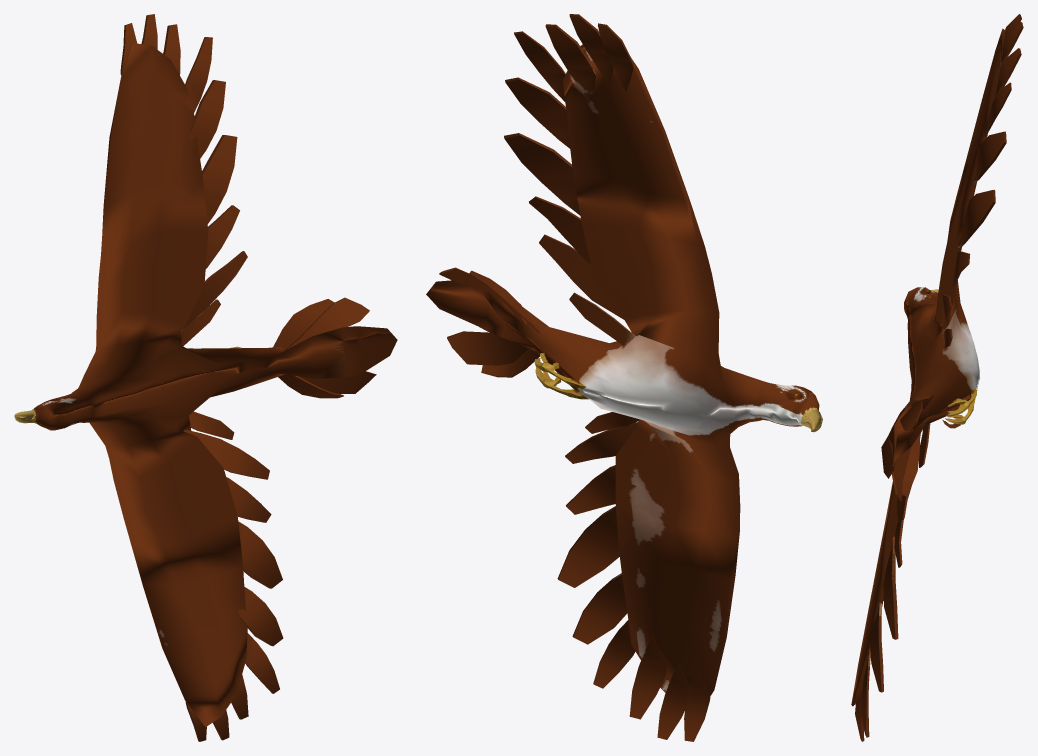
File: G10_Bird.fbx
3 renders of one model, left to right at view 1: azimuth 30°, elevation 25°; view 2: azimuth 150°, elevation 25°; view 3: azimuth 270°, elevation 25°, orthographic. The views are drawn at different scales.
Parts seen in each view (by area): view 1: node_id30; view 2: node_id30; view 3: node_id30.
Part boxes in pixels (x1,y1,x2,y2): node_id30: (14,14,397,741); node_id30: (426,14,822,741); node_id30: (851,14,1023,741).
Bounding box in the file's own units: 0.1704 × 0.3059 × 0.0666.
Materials: 1 (1 with a texture image).
